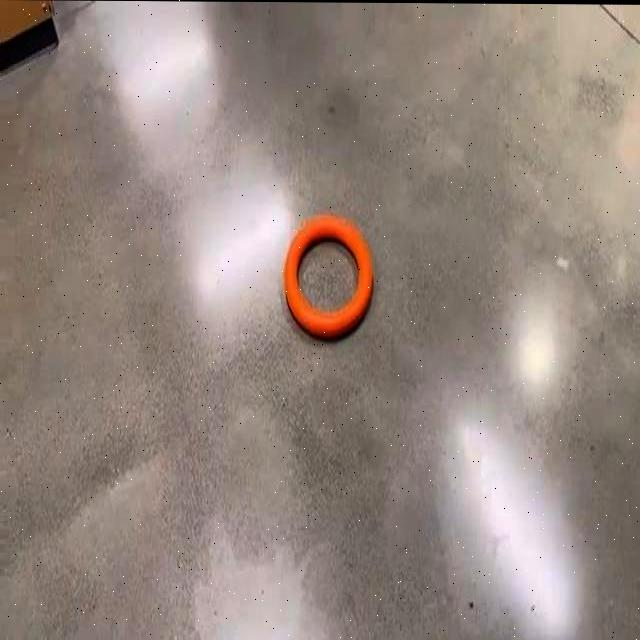note: (283, 213, 372, 336)
